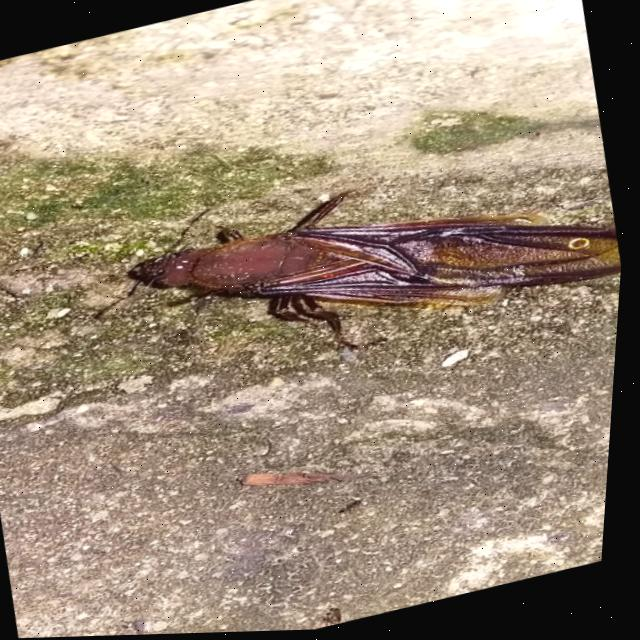Alive-Female-Alate: (74, 116, 633, 412)
